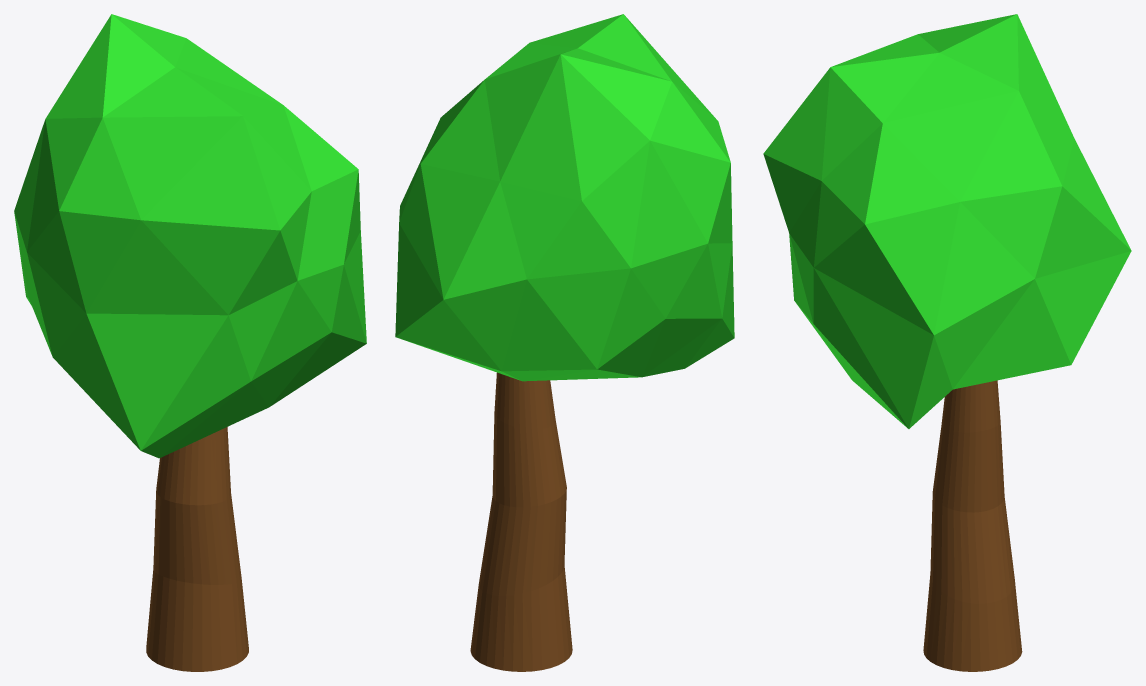
Rendered from tree03.fbx.
3 renders of one model, left to right at view 1: azimuth 30°, elevation 25°; view 2: azimuth 150°, elevation 25°; view 3: azimuth 270°, elevation 25°, orthographic. The views are drawn at different scales.
Visible parts, largest first — view 1: Tree03; view 2: Tree03; view 3: Tree03.
Boxes of the visible parts, bbox=[...] form: Tree03: bbox=[14, 14, 366, 671]; Tree03: bbox=[395, 14, 734, 671]; Tree03: bbox=[763, 14, 1131, 671].
Size of the model in its own units: 883 by 1660 by 912.
